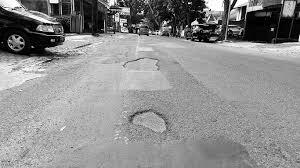Pothole: (126, 108, 169, 137), (121, 55, 161, 75)
